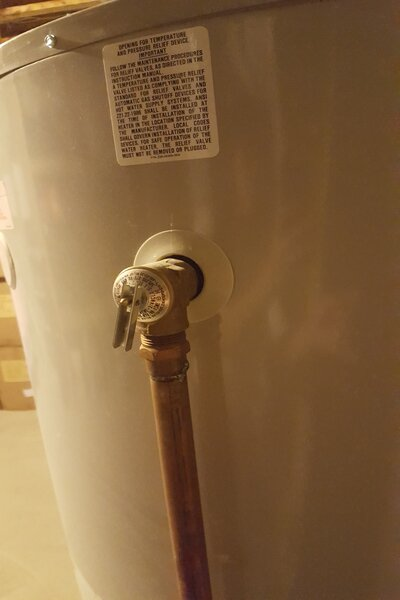valve: (107, 256, 211, 384)
